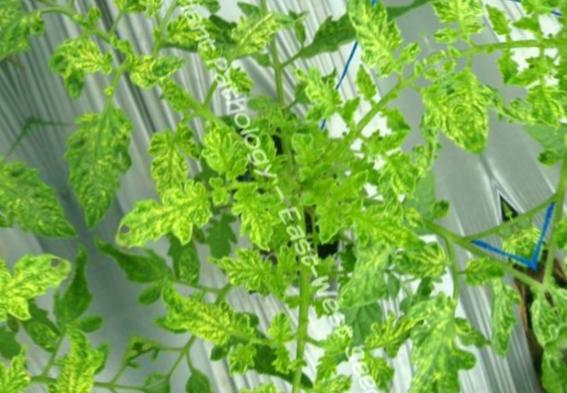Tomato leaf yellow virus: (37, 94, 169, 231), (307, 160, 427, 287), (142, 253, 252, 378), (352, 303, 503, 393), (104, 171, 222, 264), (405, 71, 489, 190), (326, 0, 427, 91), (211, 228, 307, 320), (460, 264, 540, 364), (206, 0, 290, 78), (330, 236, 413, 311), (130, 119, 204, 200), (44, 32, 113, 102), (191, 116, 255, 190), (225, 184, 288, 257), (120, 38, 192, 99), (287, 58, 347, 125), (101, 0, 176, 33), (299, 362, 358, 393), (154, 0, 248, 15)
